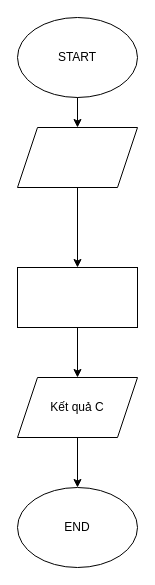
This 155x585 diagram has some shape labels left out. The centre of each missing label's shape, as x and y in pixels:
"Nhập số A và số B" belongs at (x=77, y=157).
"Tỉnh tổng C=A+B" belongs at (x=77, y=297).
